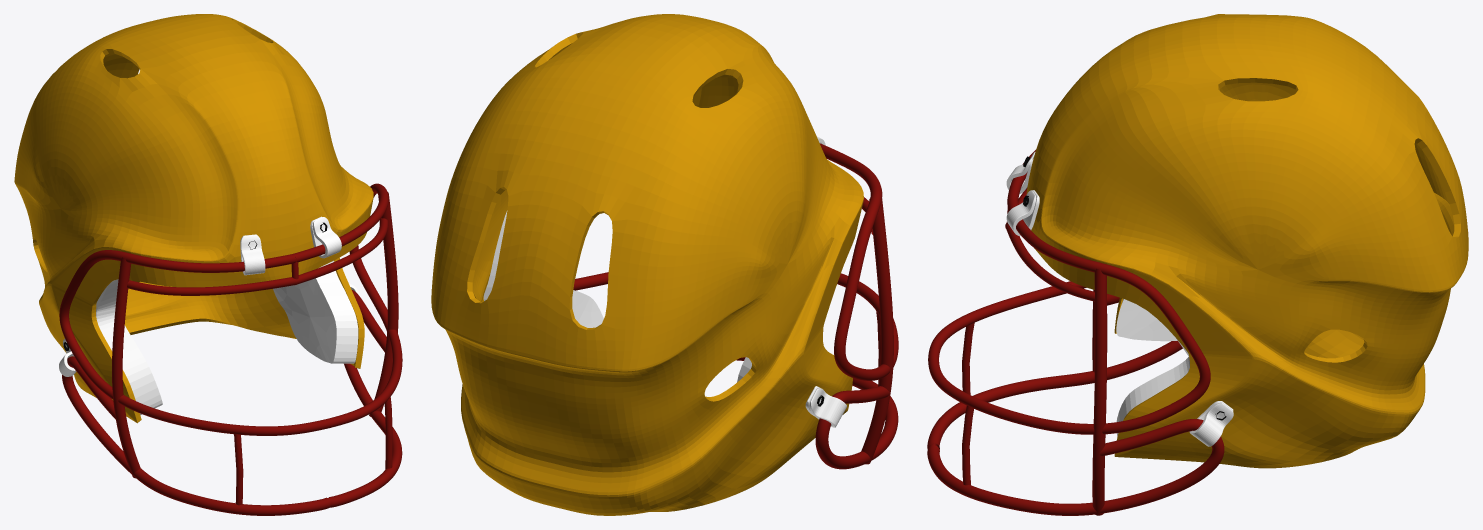
The model's file is singlehelmet.fbx.
3 renders of one model, left to right at view 1: azimuth 30°, elevation 25°; view 2: azimuth 150°, elevation 25°; view 3: azimuth 270°, elevation 25°, orthographic. The views are drawn at different scales.
Visible parts, largest first — view 1: gbp_helmet.002, gbp_rail.002, pads.002, fastener.002; view 2: gbp_helmet.002, gbp_rail.002, pads.002, fastener.002; view 3: gbp_helmet.002, gbp_rail.002, pads.002, fastener.002.
Part boxes in pixels (x1,y1,x2,y2): gbp_helmet.002: [14, 14, 373, 423]; gbp_rail.002: [59, 183, 402, 515]; pads.002: [96, 260, 358, 415]; fastener.002: [59, 216, 359, 376]; gbp_helmet.002: [431, 14, 863, 515]; gbp_rail.002: [573, 143, 898, 469]; pads.002: [483, 210, 751, 382]; fastener.002: [805, 136, 846, 427]; gbp_helmet.002: [1026, 14, 1468, 468]; gbp_rail.002: [927, 150, 1224, 515]; pads.002: [1116, 299, 1189, 436]; fastener.002: [1006, 152, 1233, 446].
Size of the model in its own units: 204 by 246 by 283.
